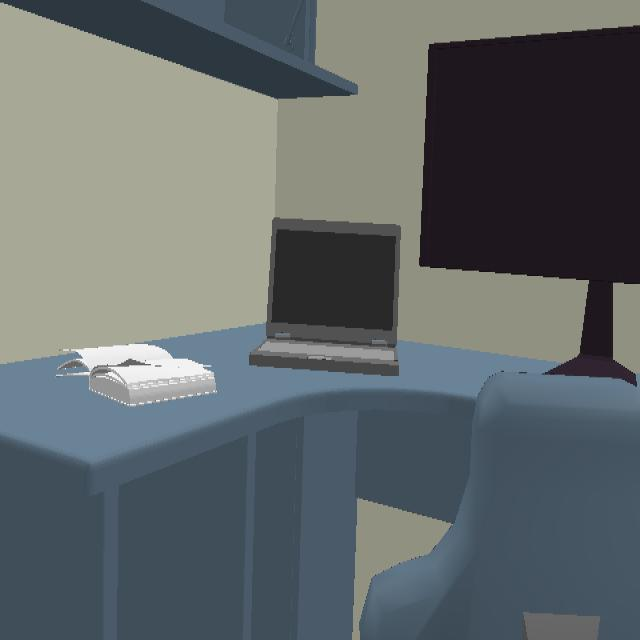book: (59, 343, 216, 406)
laptop: (249, 217, 401, 376)
monitor: (420, 28, 640, 384)
shelf: (0, 1, 358, 98)
table: (0, 323, 551, 492)
